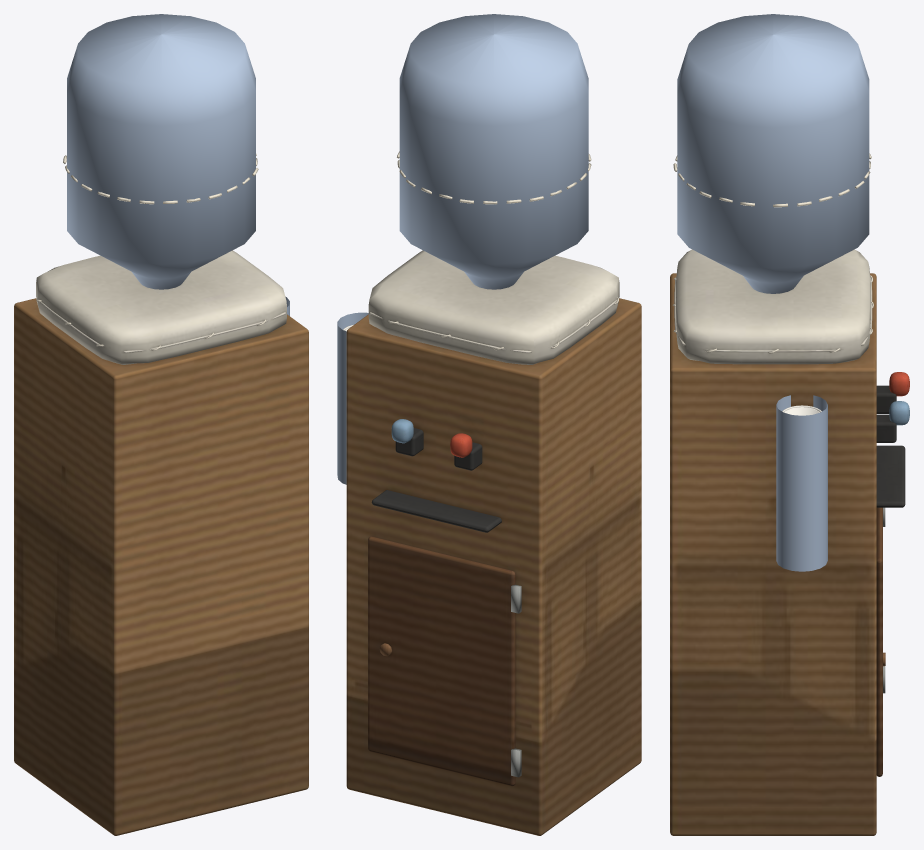
The model's file is water_server.glb.
The picture shows the model from 3 angles, left to right: view 1: azimuth 30°, elevation 25°; view 2: azimuth 150°, elevation 25°; view 3: azimuth 270°, elevation 25°; orthographic projection.
Visible parts, largest first — view 1: water_server_wood, water_server_glass, water_server_felt_ivory, water_server_thread; view 2: water_server_wood, water_server_glass, water_server_wood_dark, water_server_felt_ivory, water_server_felt_charcoal, water_server_thread, water_server_felt_tin; view 3: water_server_wood, water_server_glass, water_server_felt_ivory, water_server_felt_charcoal, water_server_wood_dark, water_server_thread.
Boxes of the visible parts, x1=… form: water_server_wood: x1=14, y1=298, x2=308, y2=835; water_server_glass: x1=67, y1=14, x2=289, y2=315; water_server_felt_ivory: x1=36, y1=250, x2=286, y2=364; water_server_thread: x1=36, y1=153, x2=286, y2=350; water_server_wood: x1=346, y1=298, x2=641, y2=835; water_server_glass: x1=337, y1=14, x2=588, y2=484; water_server_wood_dark: x1=368, y1=536, x2=515, y2=786; water_server_felt_ivory: x1=368, y1=250, x2=619, y2=364; water_server_felt_charcoal: x1=371, y1=428, x2=501, y2=532; water_server_thread: x1=389, y1=151, x2=618, y2=350; water_server_felt_tin: x1=511, y1=584, x2=521, y2=777; water_server_wood: x1=670, y1=273, x2=876, y2=835; water_server_glass: x1=677, y1=14, x2=869, y2=571; water_server_felt_ivory: x1=674, y1=249, x2=872, y2=364; water_server_felt_charcoal: x1=876, y1=385, x2=905, y2=507; water_server_wood_dark: x1=876, y1=507, x2=882, y2=776; water_server_thread: x1=673, y1=153, x2=873, y2=353.
Bounding box in the file's own units: 0.97 × 2.9 × 0.8358.
Materials: 12 (9 with a texture image).
